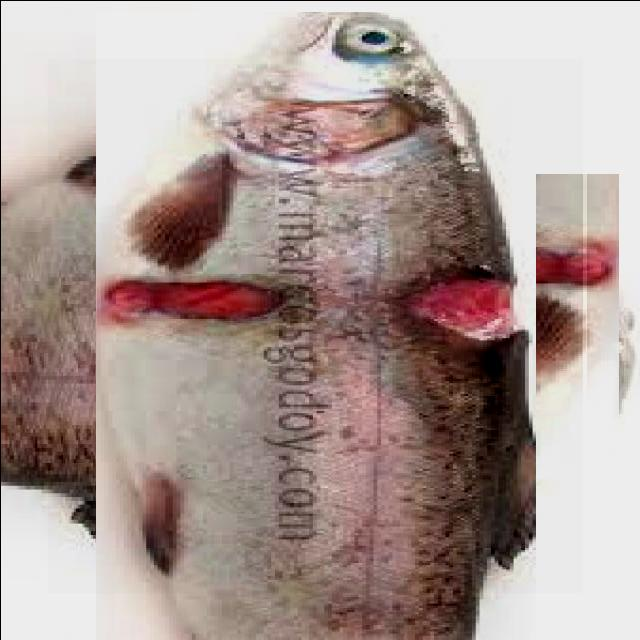EUS Disease: (47, 58, 582, 592), (215, 140, 586, 510)
